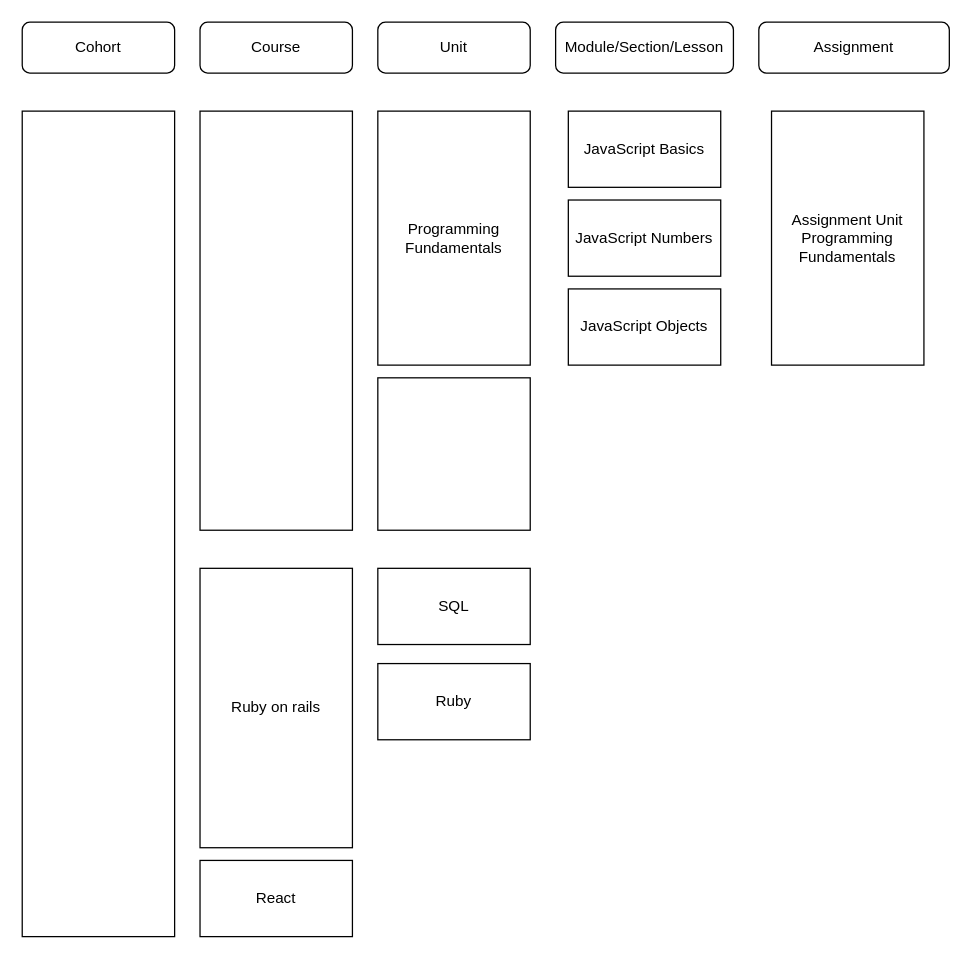
Some shapes in this 972 by 959 pixel diagram are drawn without their labels. Each missing label, with the centre of its shape:
Git Basics: the point at 453,453
High Noon: the point at 98,523
Intro To programming: the point at 275,320
